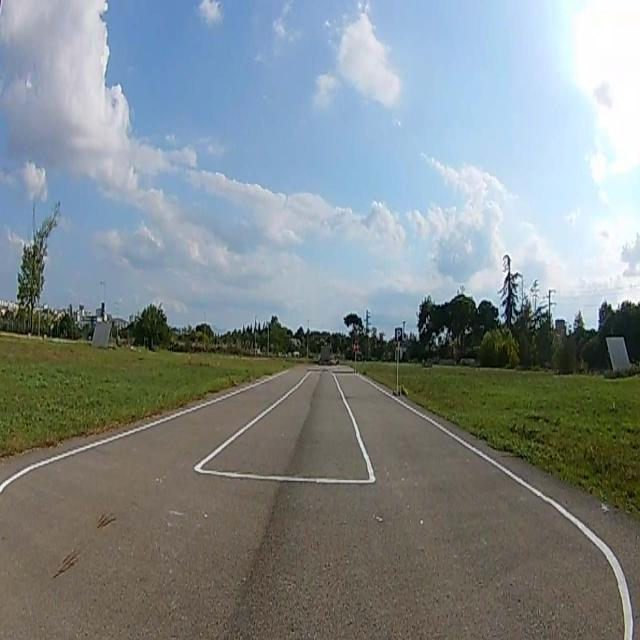park: (395, 328, 403, 341)
